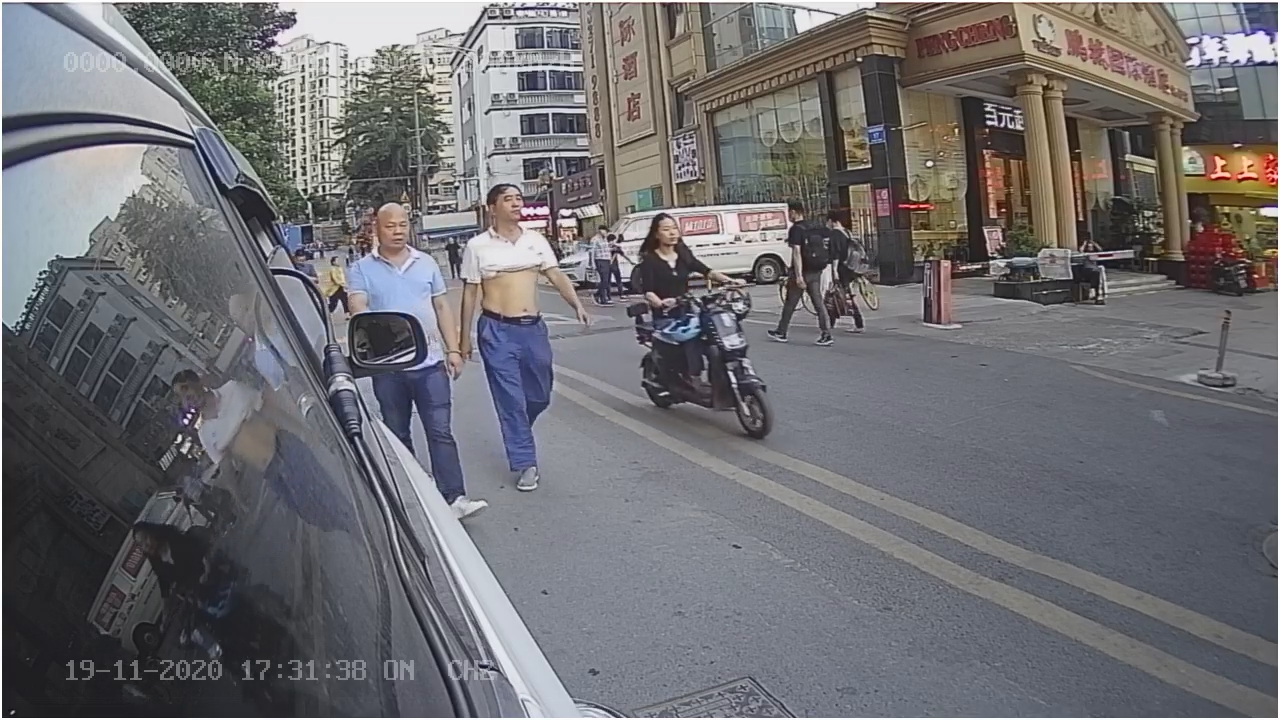person: (454, 178, 577, 480), (632, 209, 716, 297)
